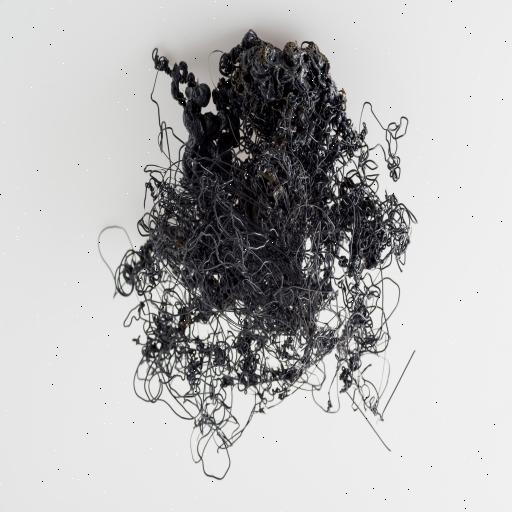spaghetti: (94, 28, 416, 484)
